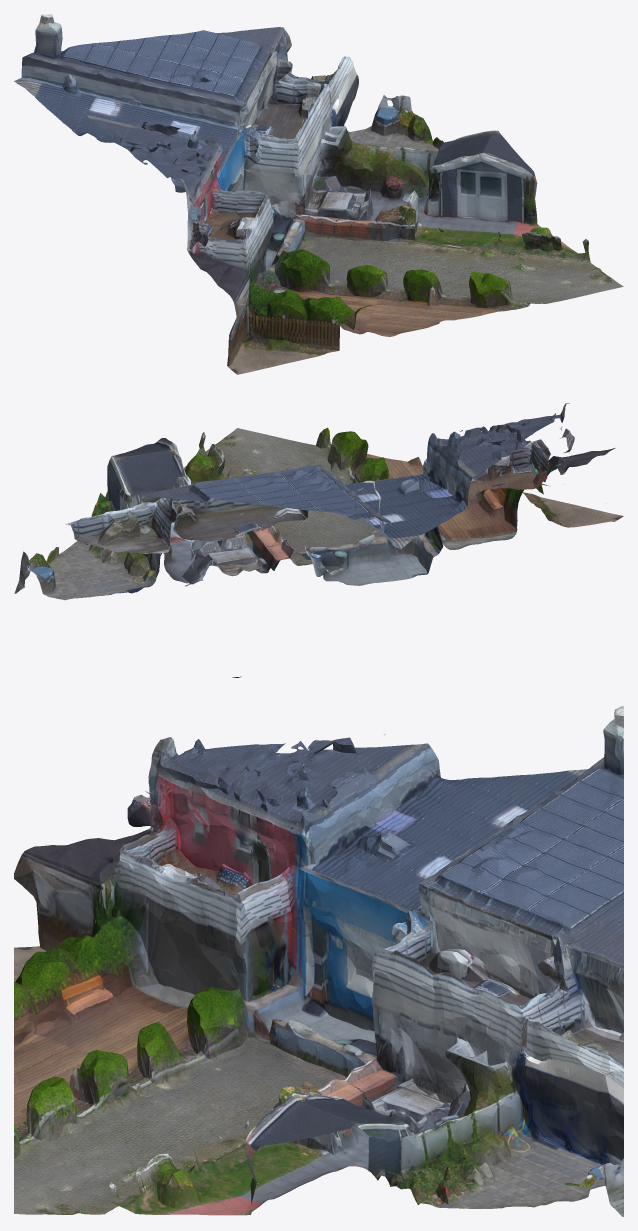
3 views of the same model, one above another, from view 1: azimuth 30°, elevation 25°; view 2: azimuth 150°, elevation 25°; view 3: azimuth 270°, elevation 25° (orthographic). The views are drawn at different scales.
Size of the model in its own units: 16.71 by 10.93 by 16.71.
Materials: 5 (5 with a texture image).
